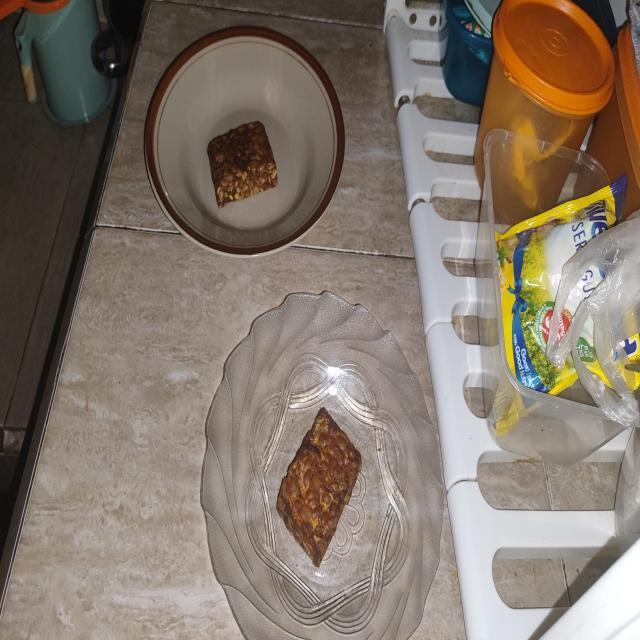tempe_goreng: (276, 408, 362, 567), (208, 121, 277, 208)
